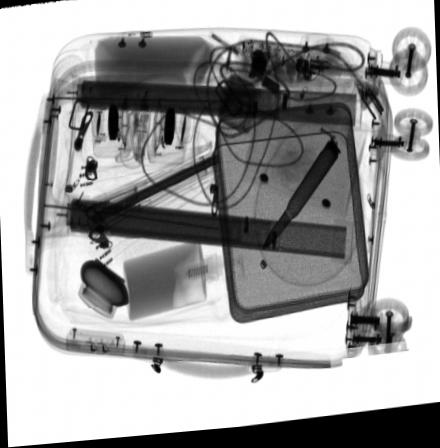Bullet: (260, 141, 341, 257)
